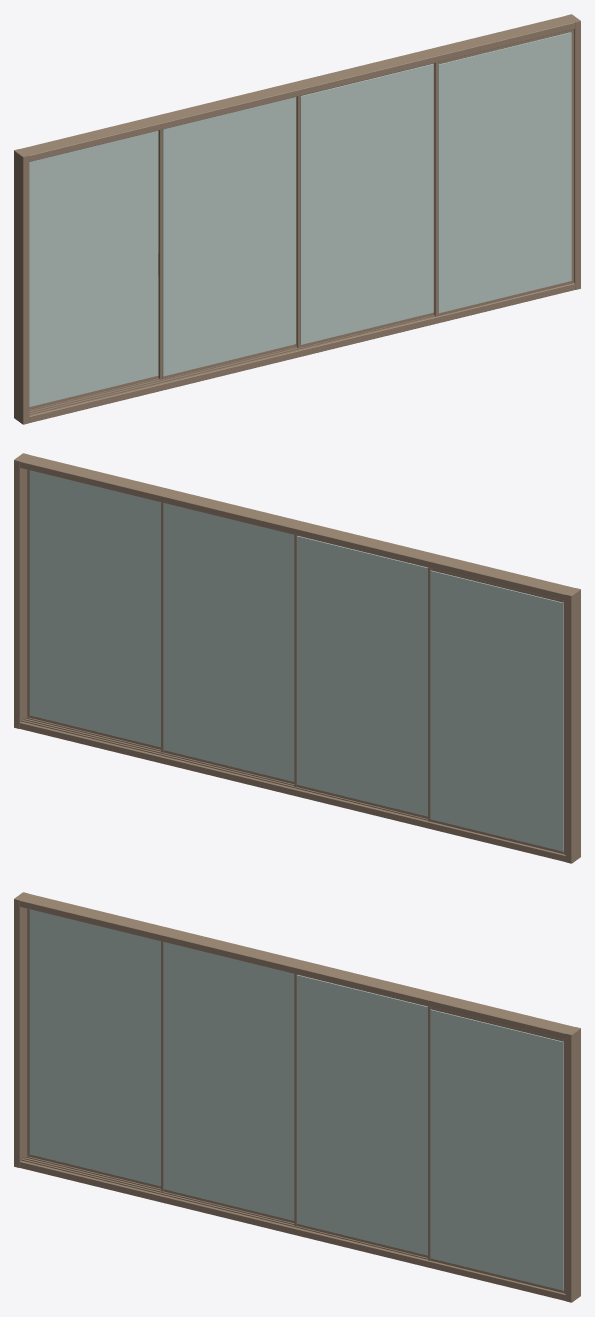
The model's file is co-S140RP-4-quartz-1019.glb.
The picture shows the model from 3 angles, top to bottom: view 1: azimuth 30°, elevation 25°; view 2: azimuth 150°, elevation 25°; view 3: azimuth 330°, elevation 25°; orthographic projection.
Parts seen in each view (by area): view 1: verre, structure; view 2: verre, structure; view 3: verre, structure.
Boxes of the visible parts, x1,y1,x2,y2 form: verre: (29,32,571,406); structure: (14,14,580,424); verre: (29,470,563,851); structure: (14,453,580,863); verre: (29,909,563,1290); structure: (14,892,580,1302).
Size of the model in its own units: 4.8 by 2.2 by 0.14.
